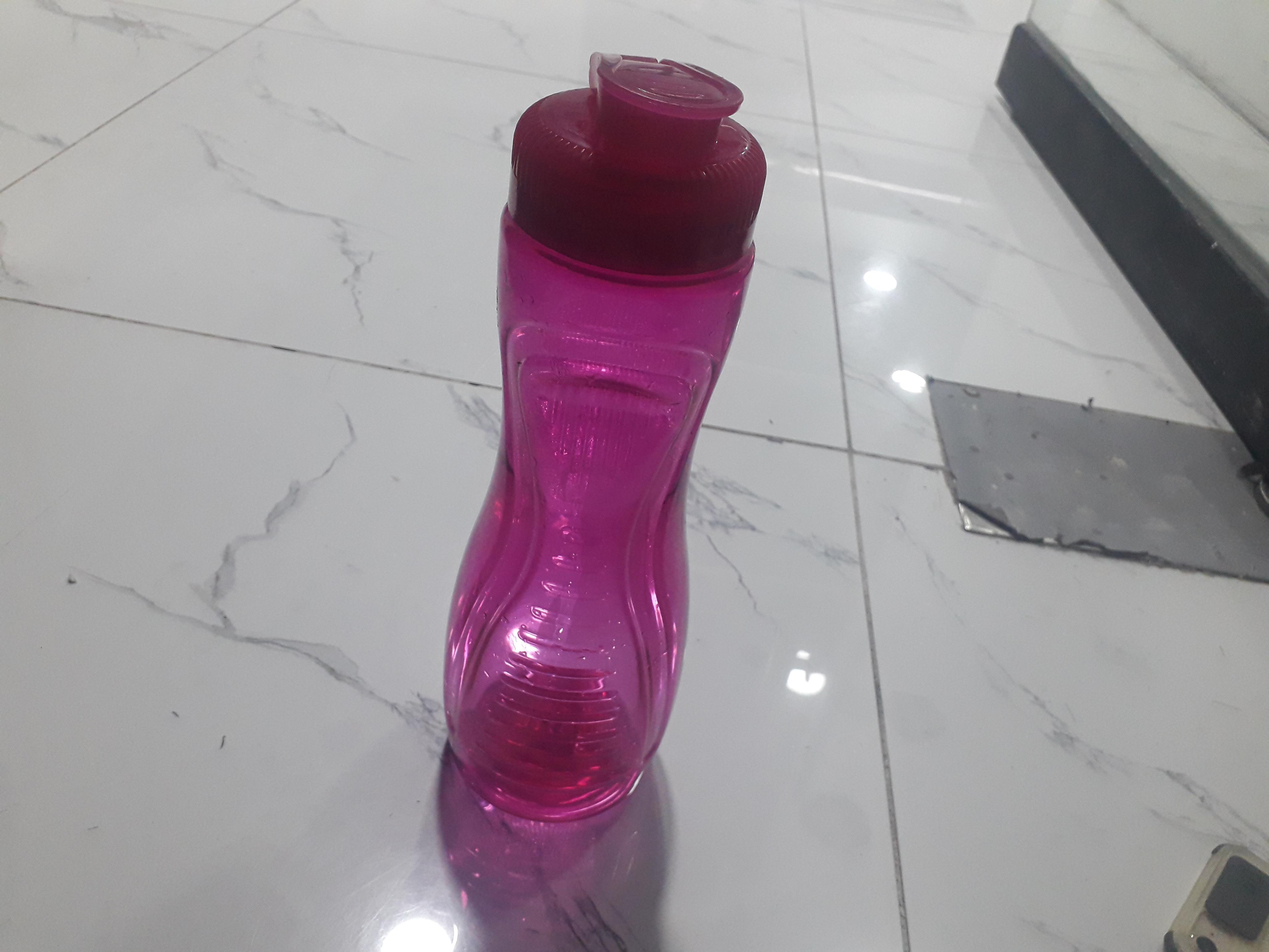gym bottle: (440, 45, 770, 838)
